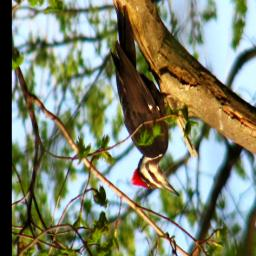Woodpecker: (108, 0, 184, 201)
